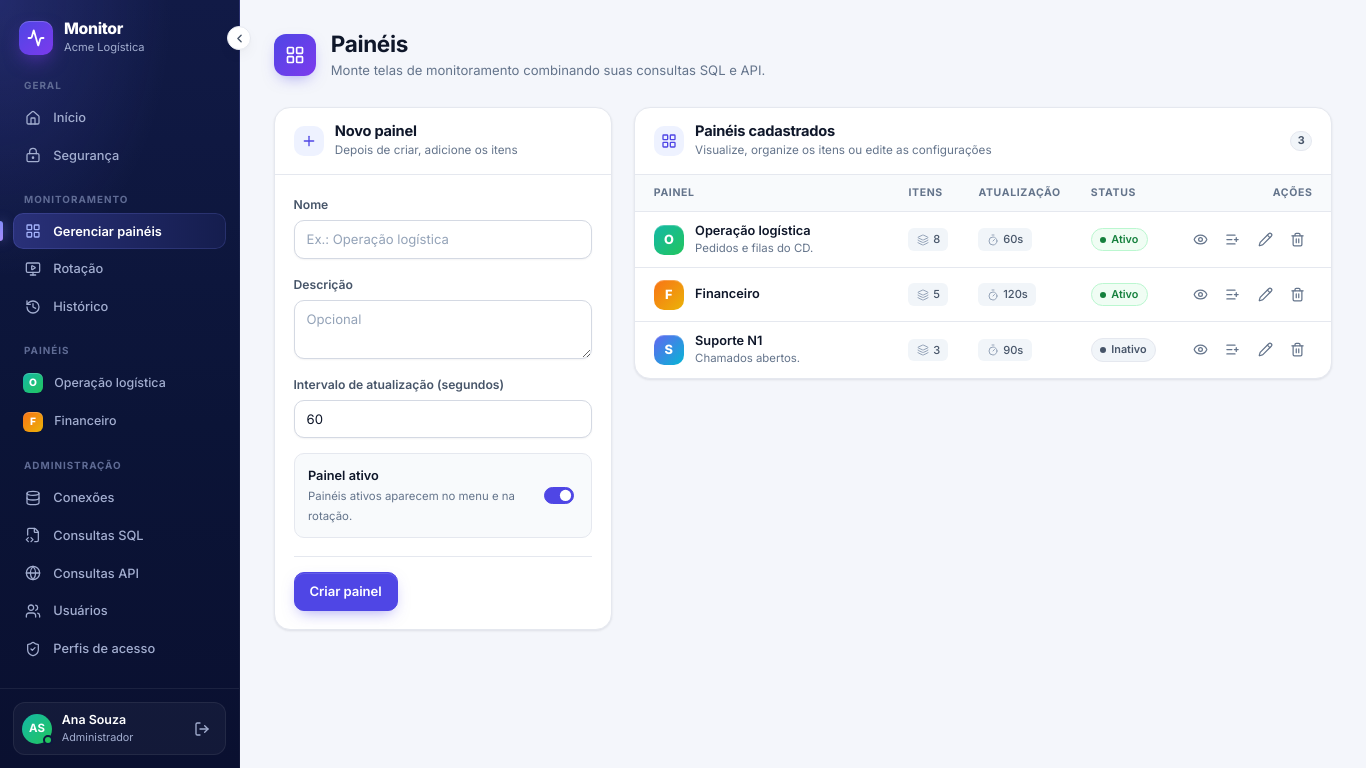
Scenario: Painéis › edita, cancela e trata erro ao salvar
Click the button named "Editar painel" in the row of "120": point(1265, 295) [1250,280,1280,310]
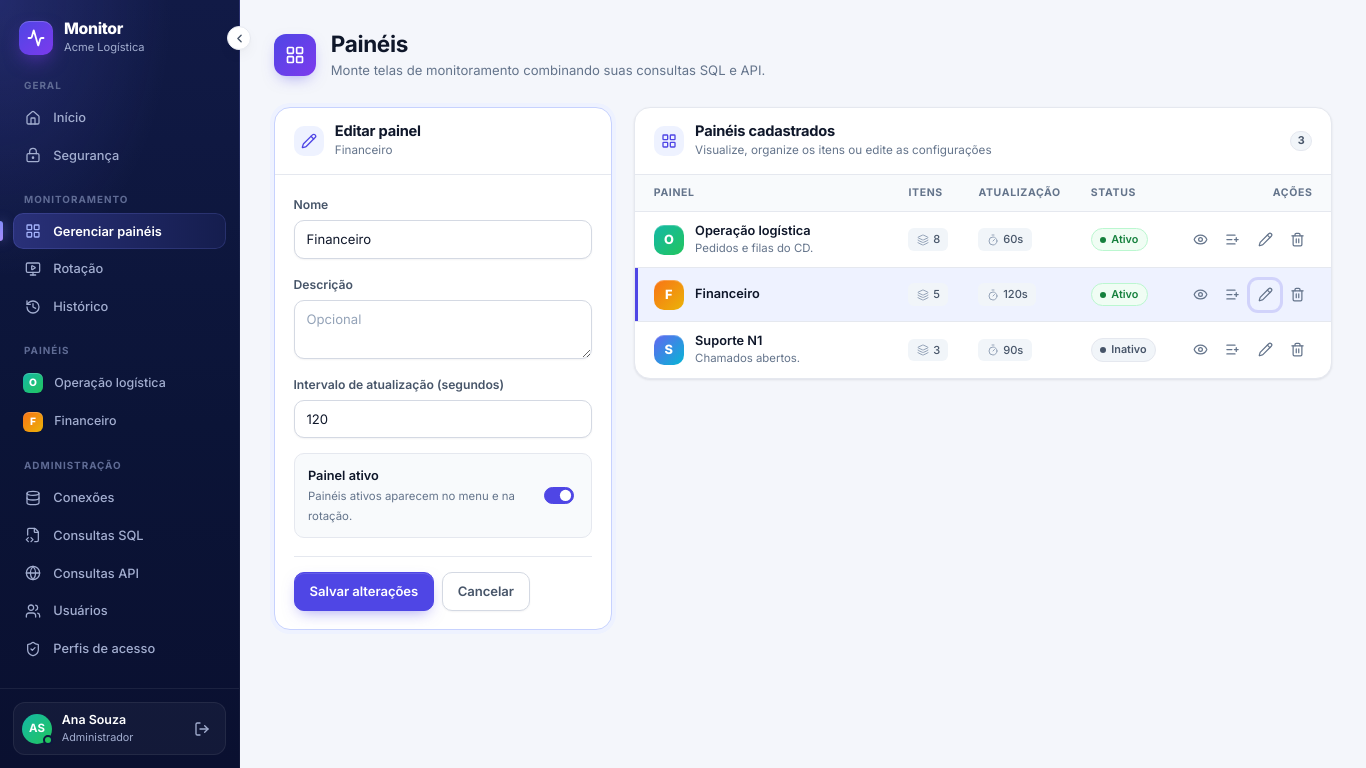
Check: the heading "Editar painel" is shown, box [335,123,421,140]
Click the button "Salvar alterações": point(364, 591) [294,572,434,610]
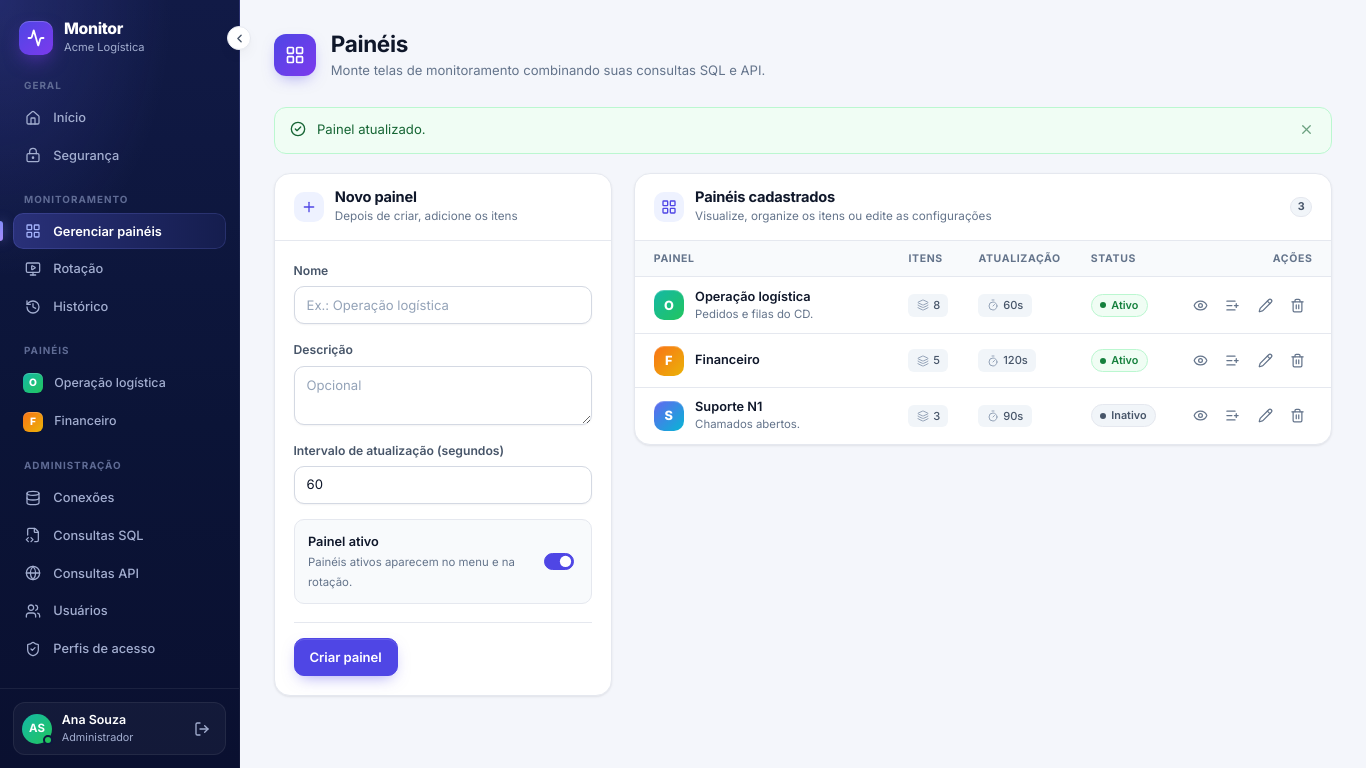
Check: the text "Painel atualizado." is shown, box [317,121,426,137]
Click the button named "Editar painel" in the row of "Pedidos e filas do CD.": point(1265, 305) [1250,290,1280,320]
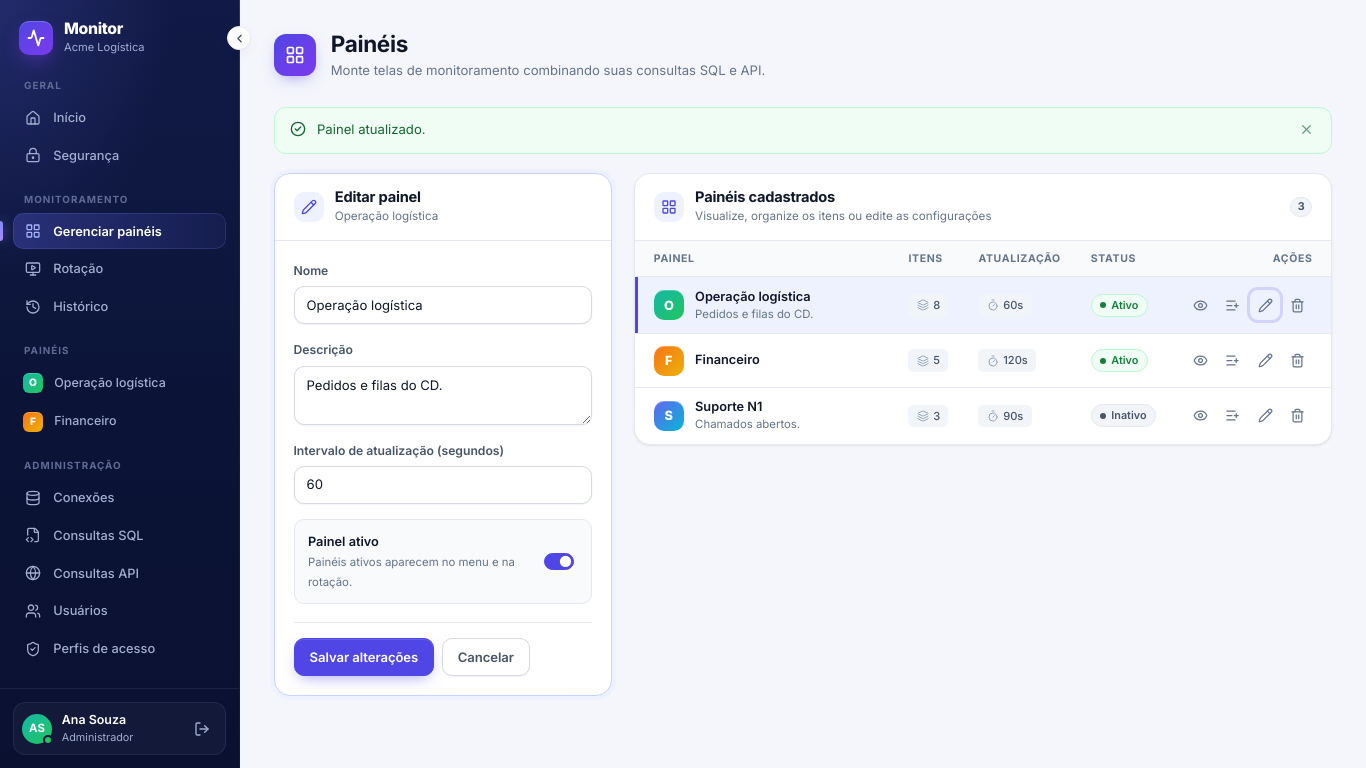
Click the button "Salvar alterações": point(364, 657) [294,638,434,676]
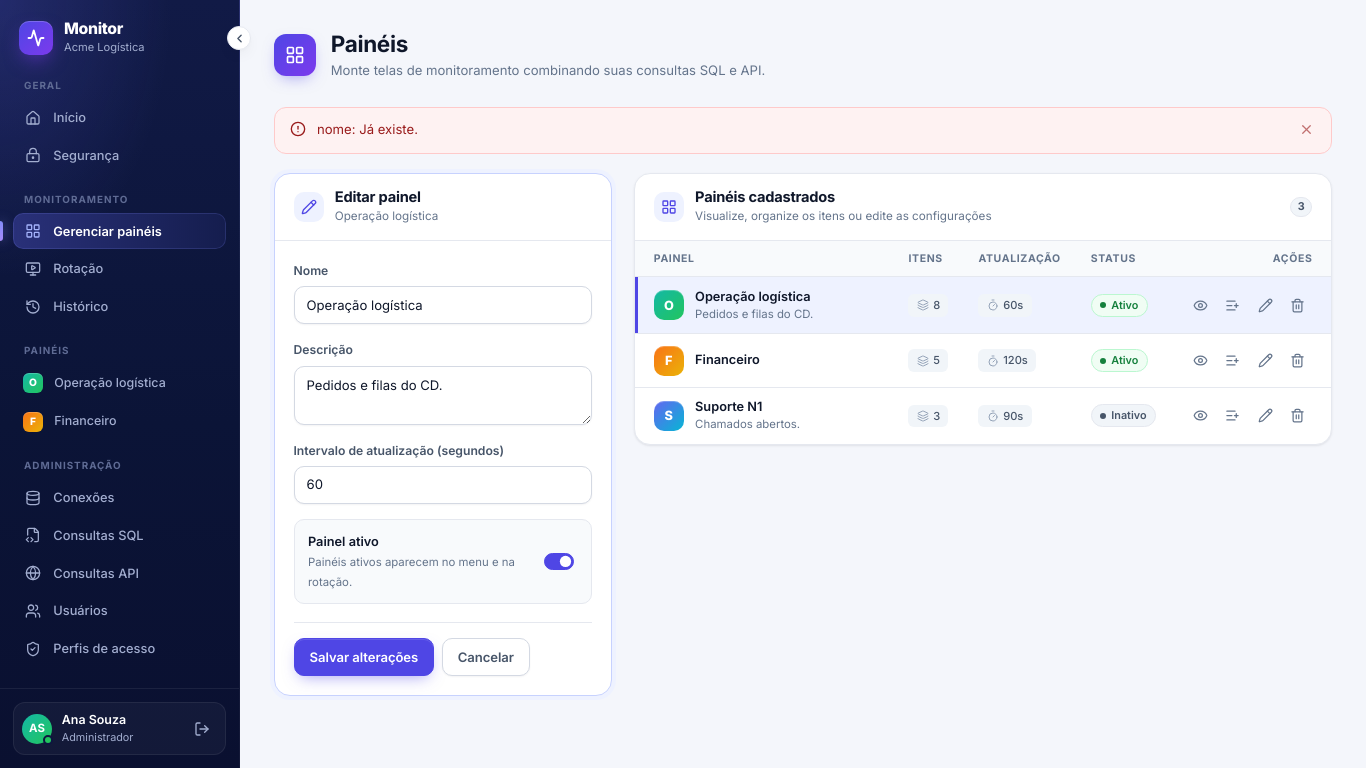
Check: the message reads "nome: Já existe.", box [317,121,418,137]
Click the button "Cancelar": point(486, 657) [442,638,530,676]
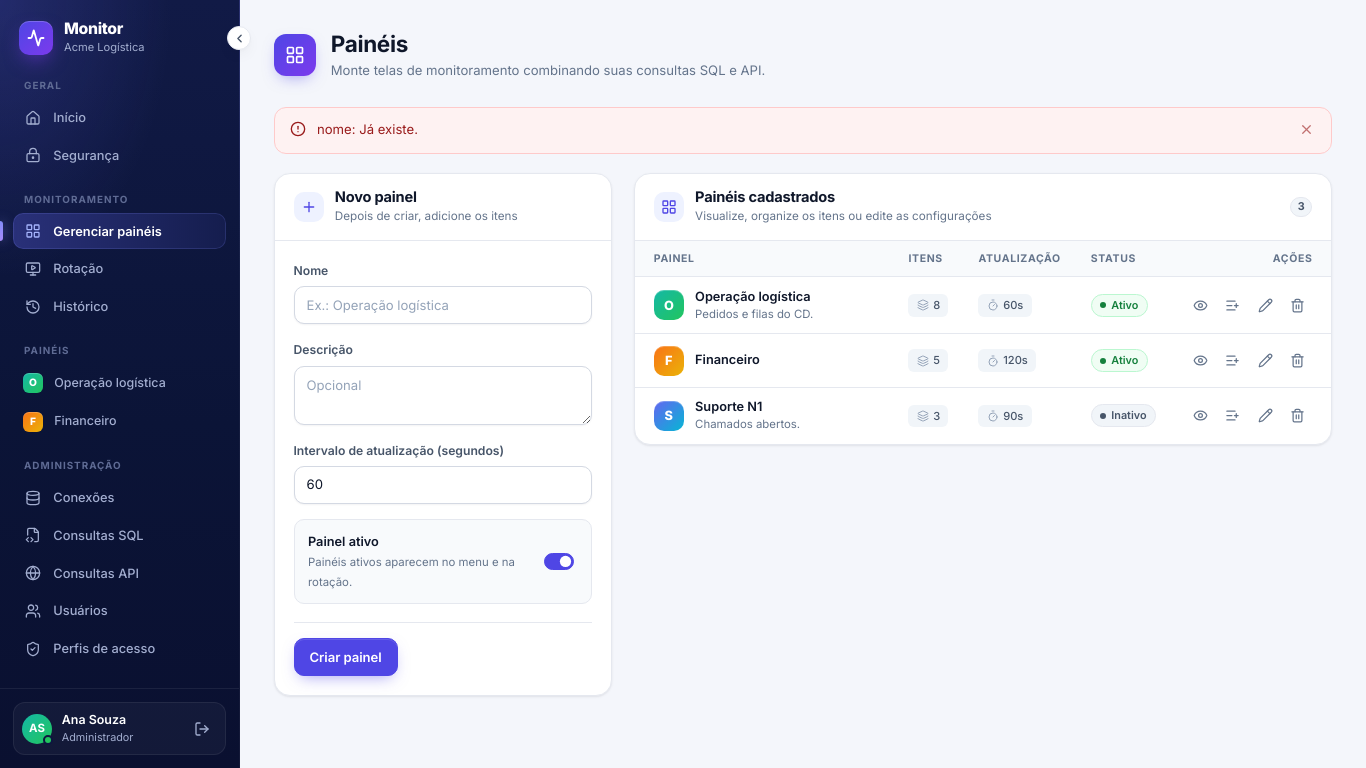
Check: the heading "Novo painel" is shown, box [335,188,417,206]
